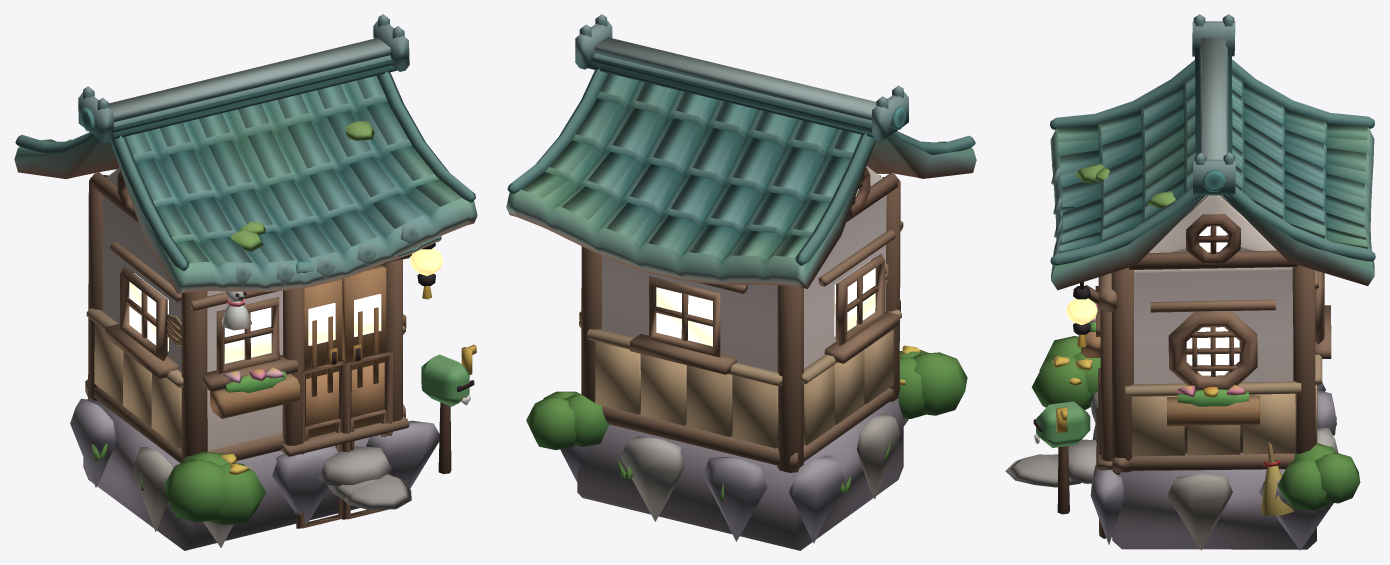
The model's file is home-1-v5.glb.
3 renders of one model, left to right at view 1: azimuth 30°, elevation 25°; view 2: azimuth 150°, elevation 25°; view 3: azimuth 270°, elevation 25°, orthographic. The views are drawn at different scales.
Visible parts, largest first — view 1: home, window_glow; view 2: home, window_glow; view 3: home, window_glow.
Part boxes in pixels (<box>): home: <box>14,14,477,550</box>; window_glow: <box>129,248,443,363</box>; home: <box>506,14,976,550</box>; window_glow: <box>656,189,875,346</box>; home: <box>1005,14,1375,550</box>; window_glow: <box>1066,226,1239,375</box>.
Size of the model in its own units: 2.19 by 2.86 by 2.31.
